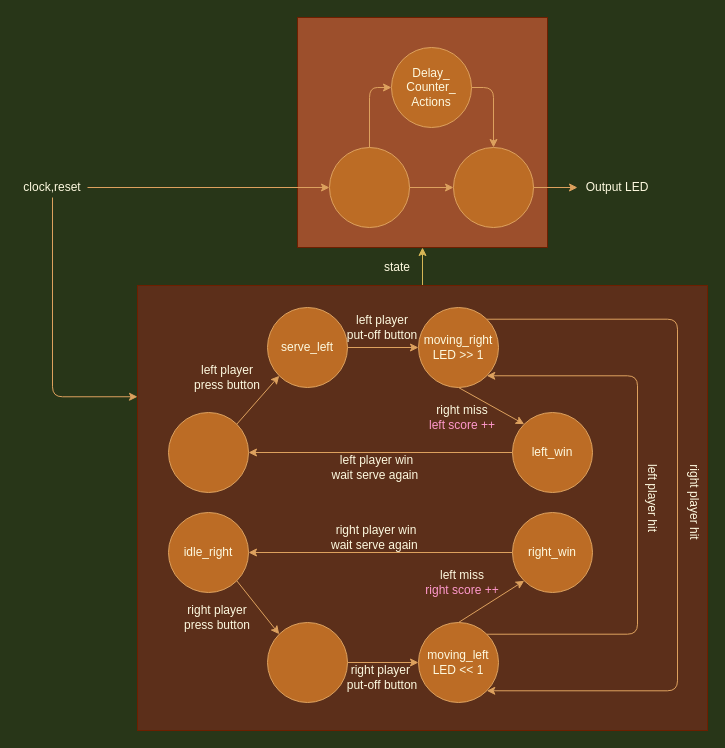
Some shapes in this 725 by 748 pixel diagram are drawn without their labels. The shapes that lost their labels are listed below. From the top down, each one's box as (x1, y1, x2, y2) in pixels, then its label:
(328, 146, 410, 228): DIV_CLK Actions
(452, 146, 534, 228): LED Actions
(168, 412, 248, 492): idle_left
(266, 622, 348, 702): serve_right
